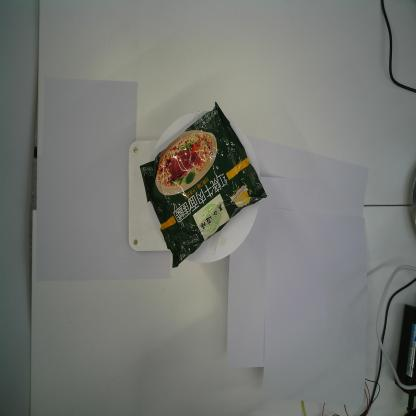Instant Noodles: (138, 98, 268, 270)
